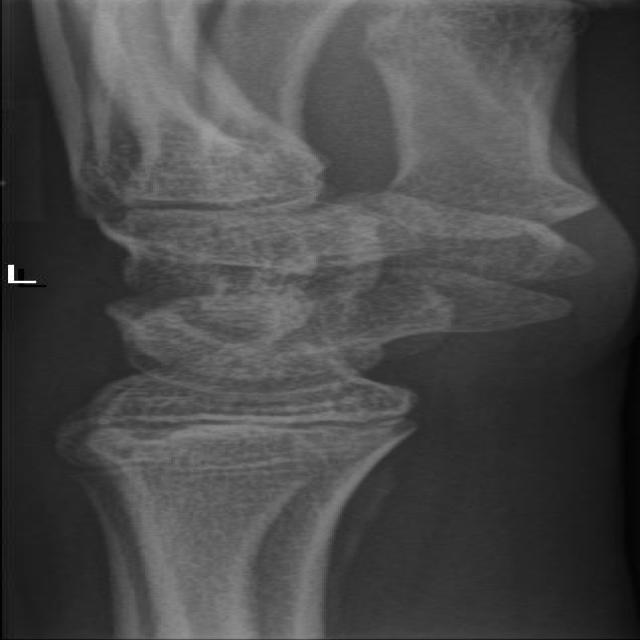fracture: (46, 392, 453, 472)
